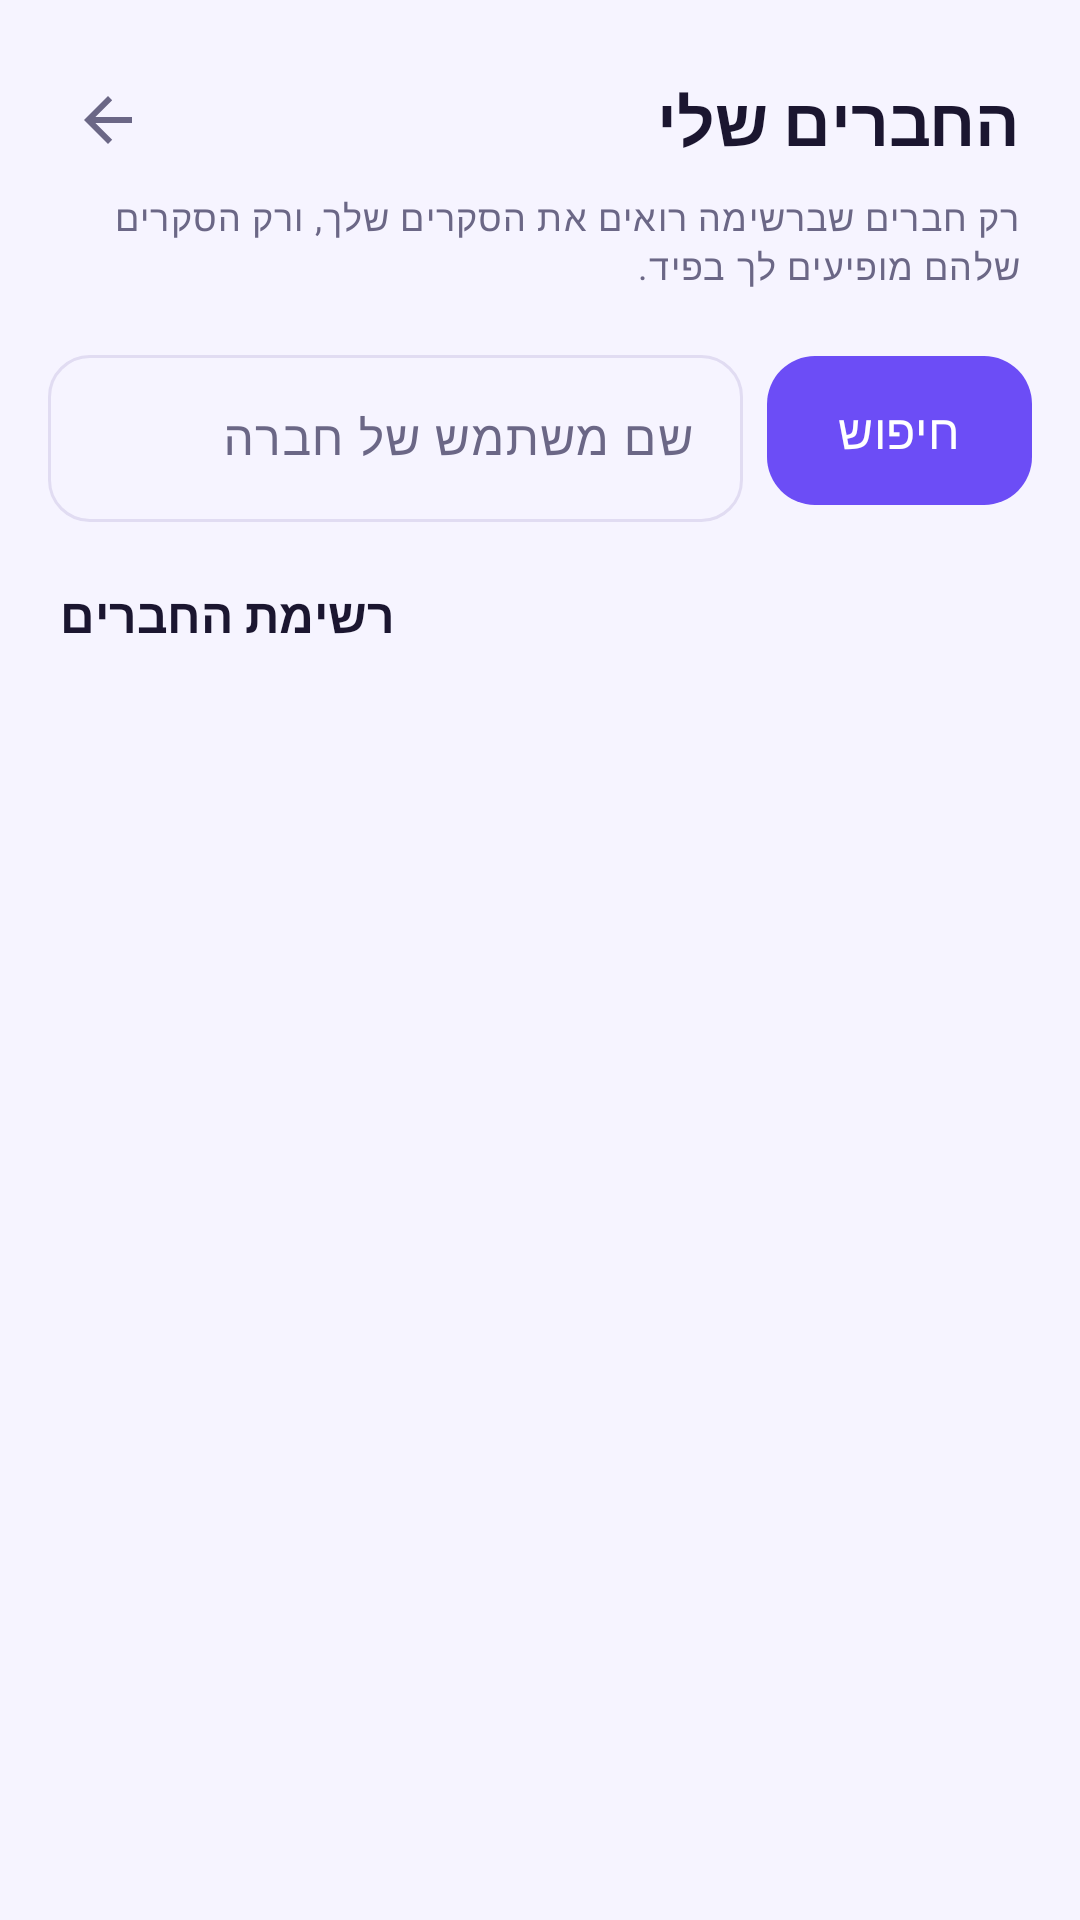

Where icons sit on this 1080px x 1920px app screen, as box=[x1, y1, x2, y2]:
חזרה: box=[84, 96, 132, 144]
